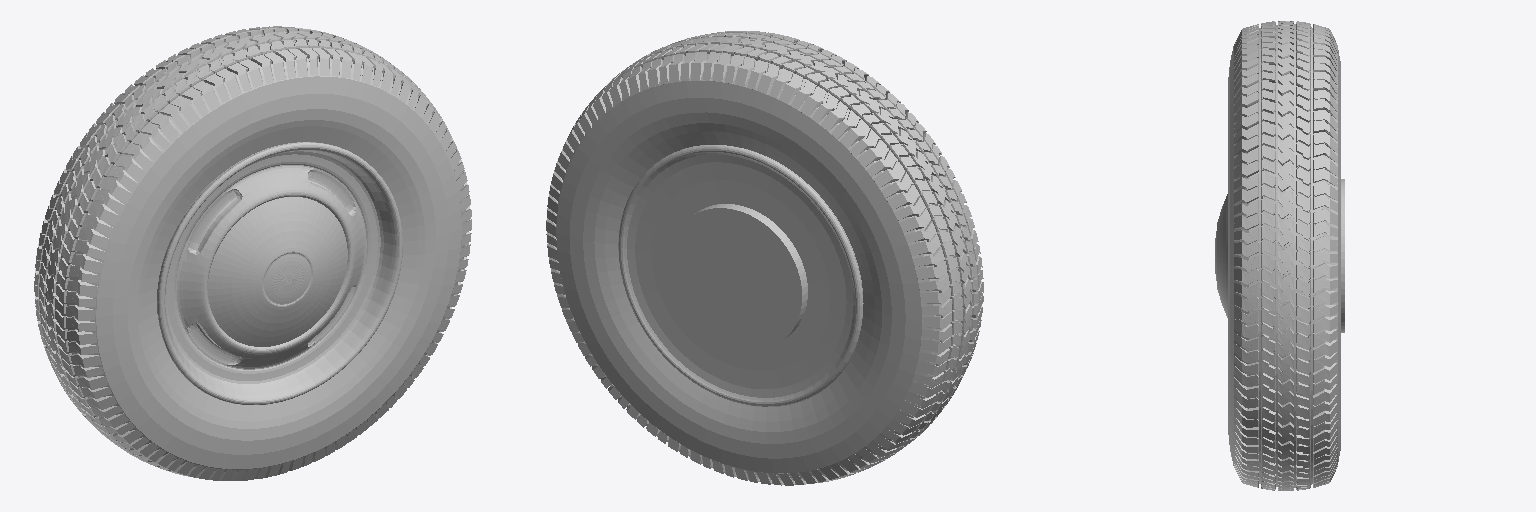
File: obj_wheels_big_three.obj
3 renders of one model, left to right at view 1: azimuth 30°, elevation 25°; view 2: azimuth 150°, elevation 25°; view 3: azimuth 270°, elevation 25°, orthographic.
Visible parts, largest first — view 1: Плоскость_Плоскость.001; view 2: Плоскость_Плоскость.001; view 3: Плоскость_Плоскость.001.
Boxes of the visible parts, <box> form: Плоскость_Плоскость.001: <box>34,26,471,480</box>; Плоскость_Плоскость.001: <box>546,31,983,485</box>; Плоскость_Плоскость.001: <box>1215,21,1344,490</box>.
Bounding box in the file's own units: 4 × 4 × 1.11.